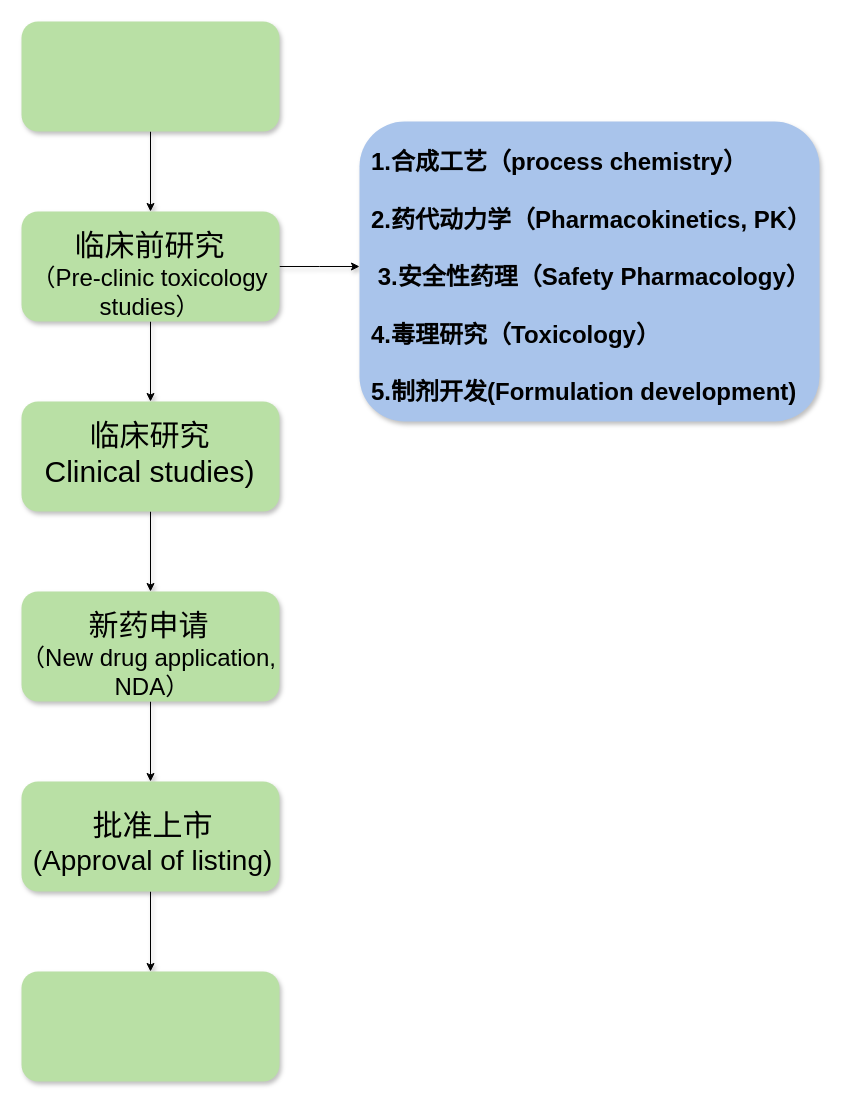
Image size: 842x1105. Some labels were removed from this diagram. The centre of each missing label's shape, as x and y in pixels:
IV期临床研究 （药物上市后监测）: the point at 151,1027
新药的发现 （Drug Discovery）: the point at 151,77
